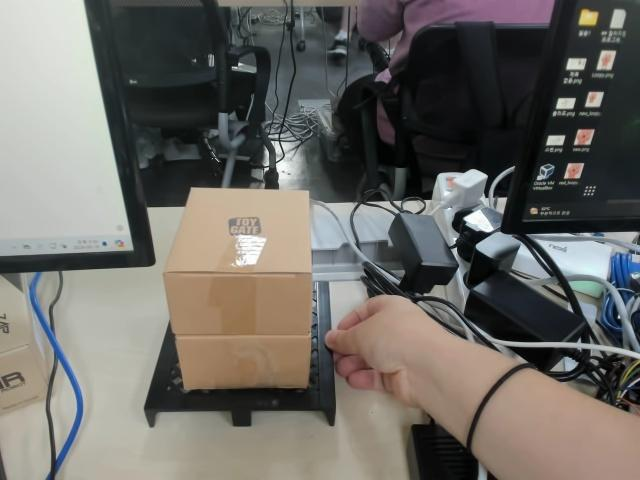box: (145, 185, 333, 427)
